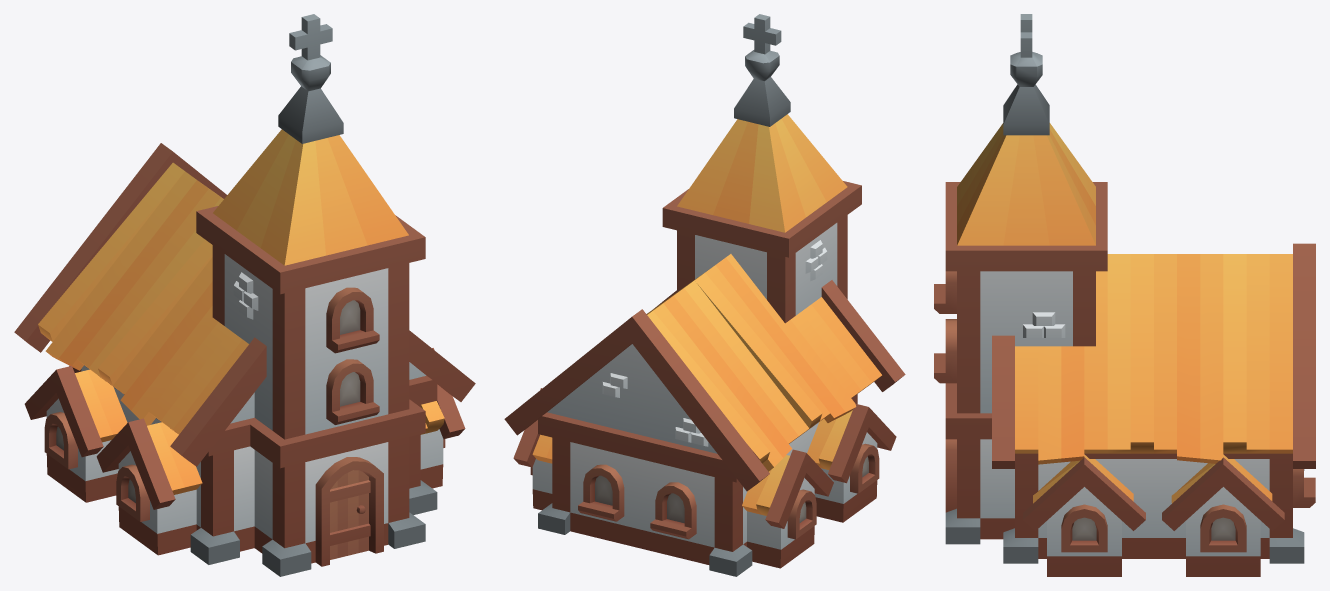
Rendered from building_church_yellow.gltf.
The picture shows the model from 3 angles, left to right: view 1: azimuth 30°, elevation 25°; view 2: azimuth 150°, elevation 25°; view 3: azimuth 270°, elevation 25°; orthographic projection. The views are drawn at different scales.
Visible parts, largest first — view 1: building_church_yellow; view 2: building_church_yellow; view 3: building_church_yellow.
Boxes of the visible parts, <box> form: building_church_yellow: <box>14,14,475,576</box>; building_church_yellow: <box>504,14,905,576</box>; building_church_yellow: <box>934,14,1315,576</box>.
Size of the model in its own units: 1.03 by 1.65 by 1.15.
Materials: 1 (1 with a texture image).
